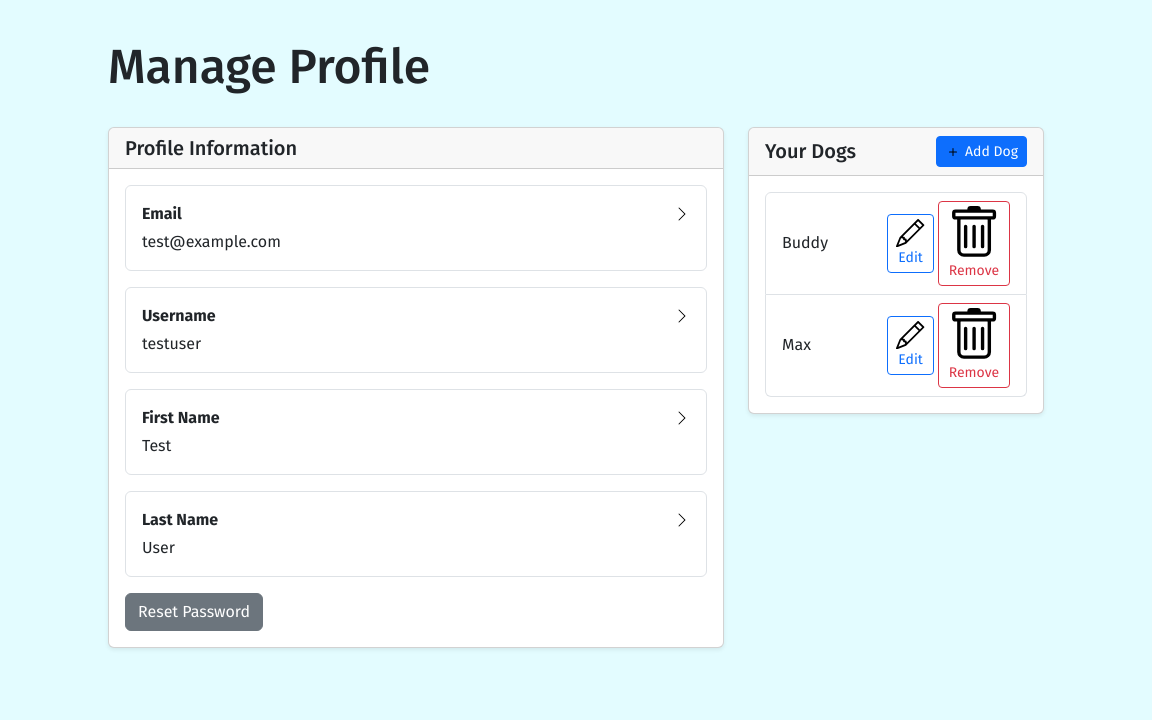
it: ManageProfile Component › handles API errors when editing profile
The image size is (1152, 720).
Check: the text "test@example.com" is shown, box [142,232,281,251]
// Find the email field container and click to toggle edit mode
Click the element with class "justify-content-between" showing "Email" at (162, 213), box [142,202,690,226]
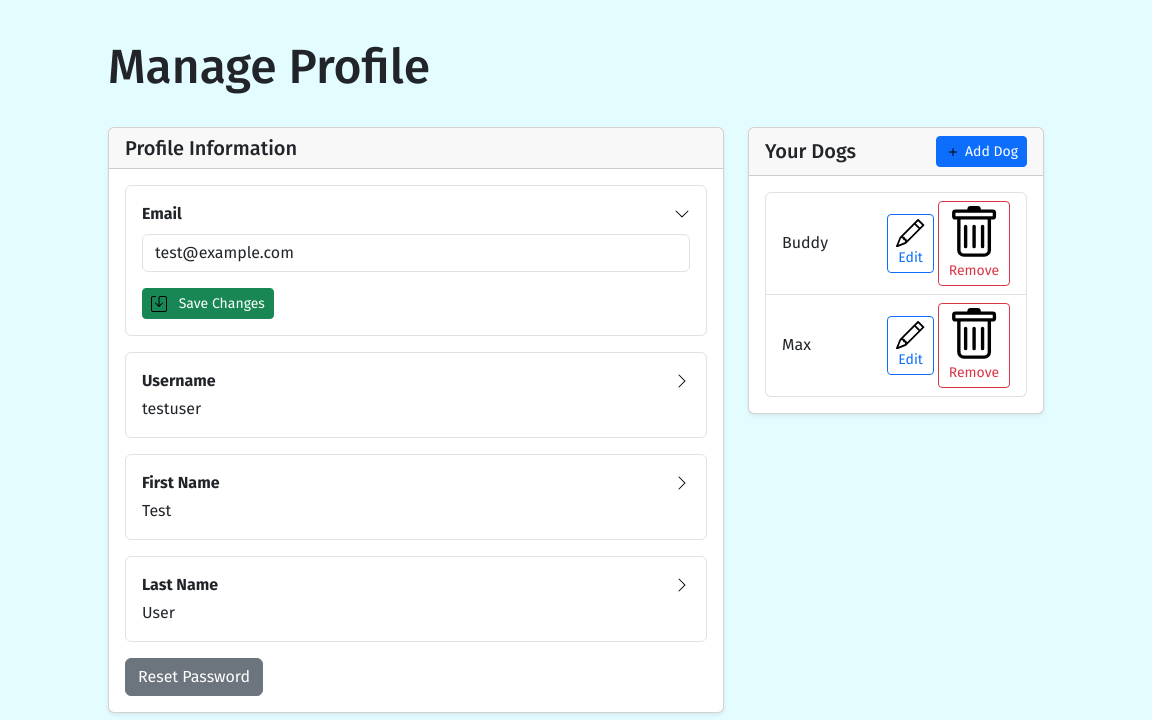
// Change email value
Replace the text in the field with "error@example.com" at (416, 253), box [142,234,690,272]
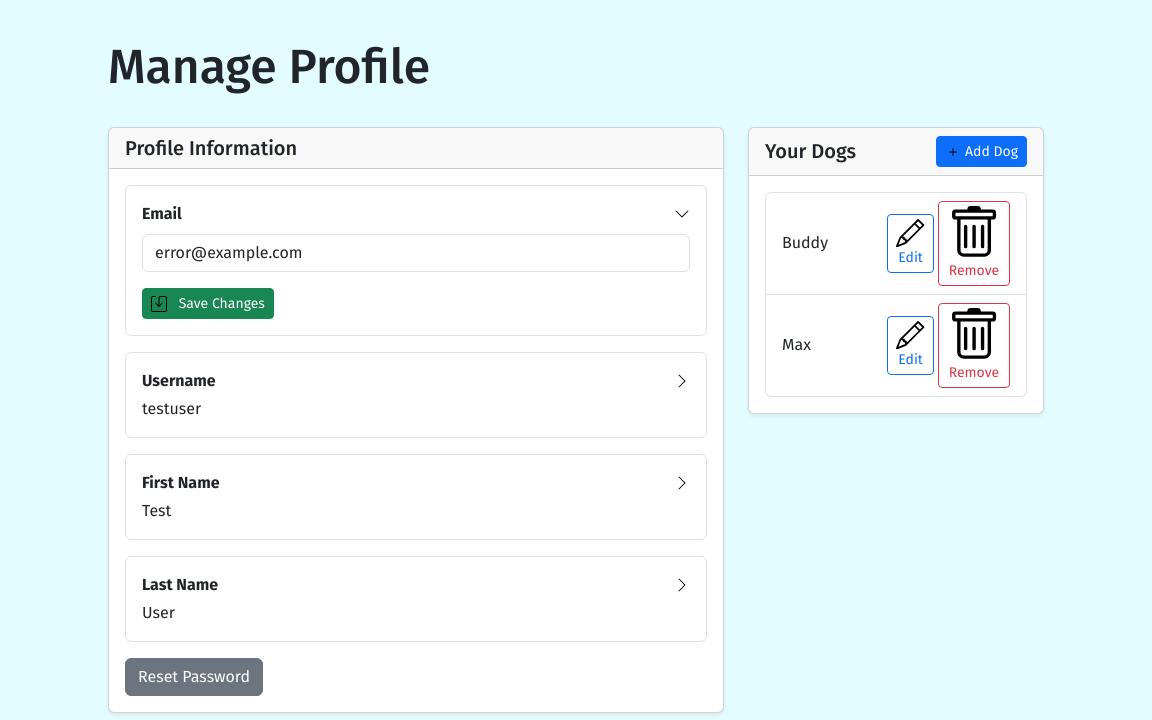
// Save changes
Click the button "Save Changes" at (208, 303), box [142,288,274,319]
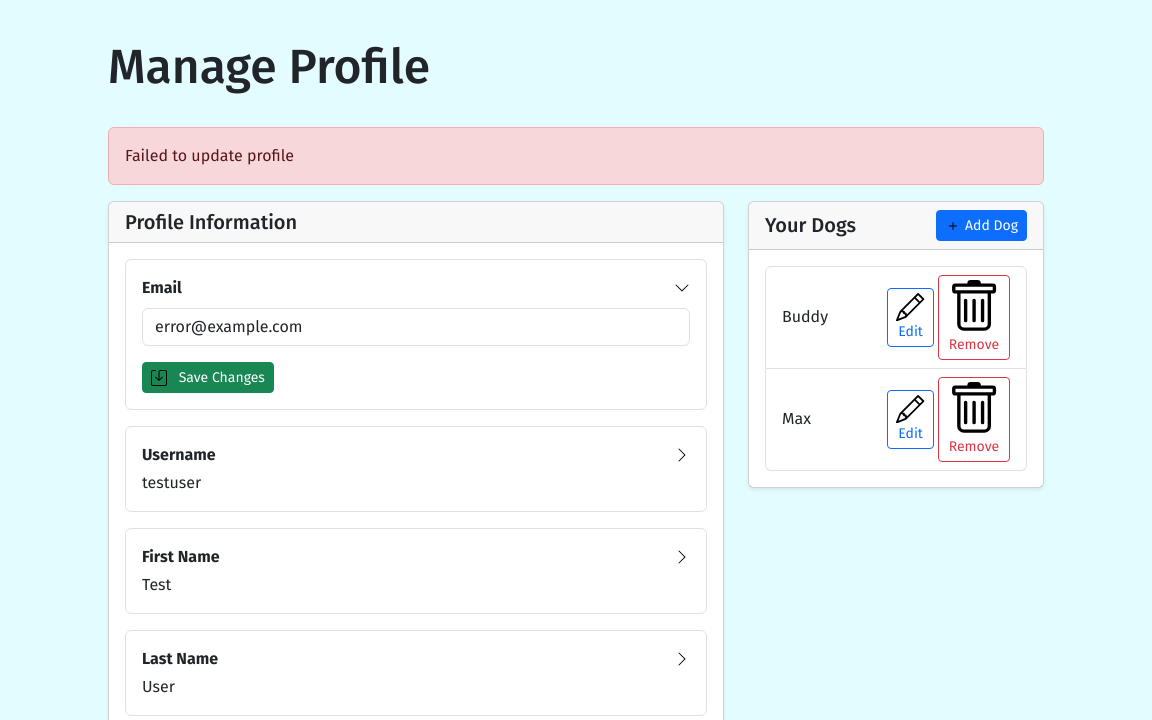
Check: the text "Failed to update profile" is shown, box [108,127,1044,185]
